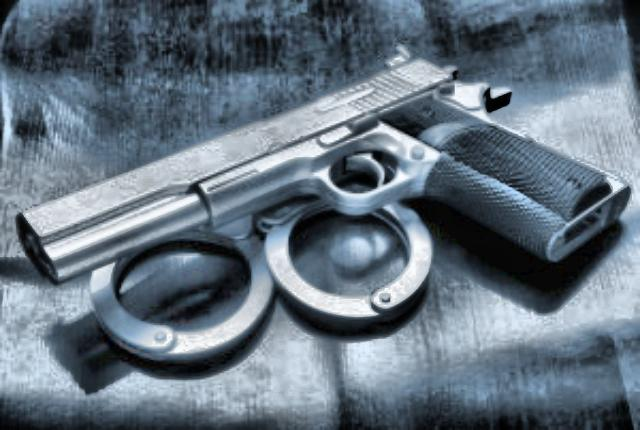pistol: (30, 49, 608, 311)
